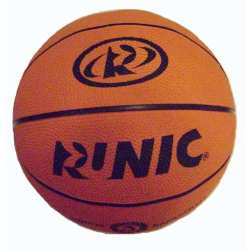basketball: (14, 9, 236, 234)
